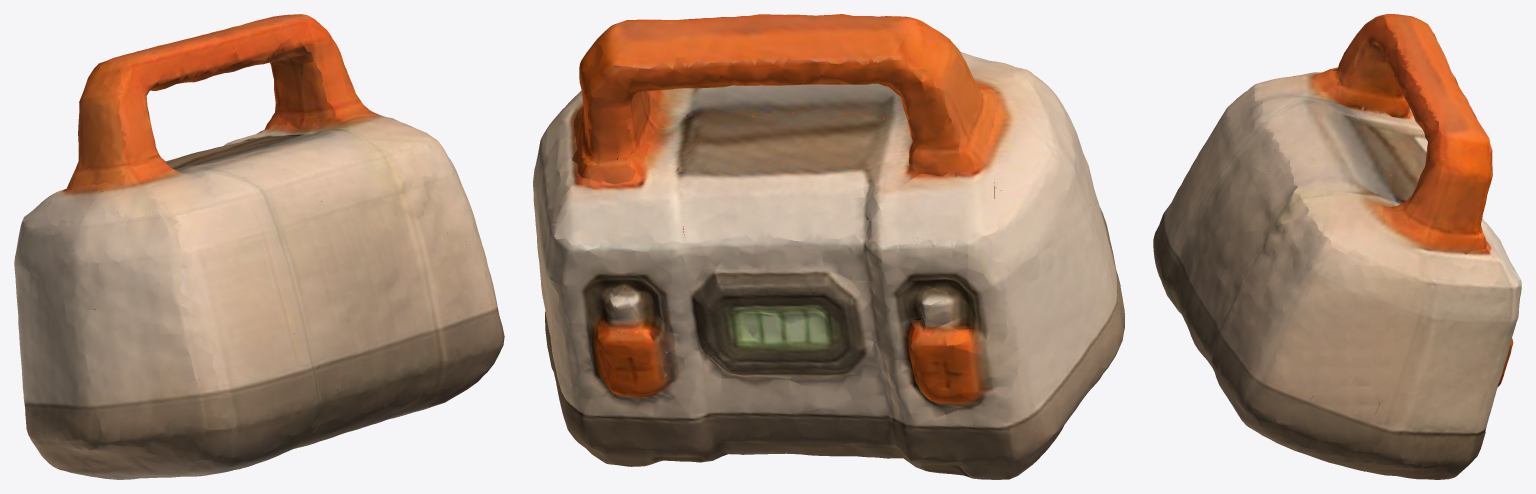
3 renders of one model, left to right at view 1: azimuth 30°, elevation 25°; view 2: azimuth 150°, elevation 25°; view 3: azimuth 270°, elevation 25°, orthographic. The views are drawn at different scales.
Parts seen in each view (by area): view 1: world; view 2: world; view 3: world.
Part boxes in pixels (bbox=[...]): world: bbox=[14, 14, 504, 479]; world: bbox=[533, 14, 1124, 479]; world: bbox=[1153, 14, 1521, 479].
Size of the model in its own units: 0.9362 by 0.8564 by 0.7792.
1 material, 1 textured.
